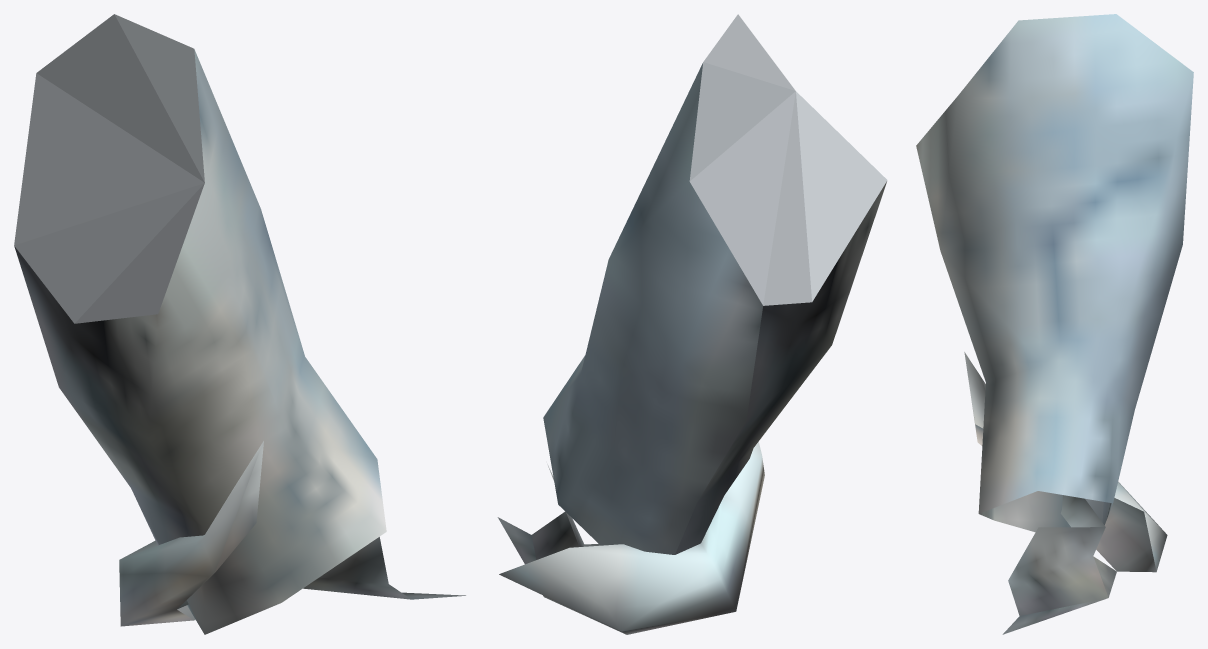
File: Minos_Upper_Left_Arm.obj
The picture shows the model from 3 angles, left to right: view 1: azimuth 30°, elevation 25°; view 2: azimuth 150°, elevation 25°; view 3: azimuth 270°, elevation 25°; orthographic projection. The views are drawn at different scales.
Visible parts, largest first — view 1: Minos_Upper_Left_Arm; view 2: Minos_Upper_Left_Arm; view 3: Minos_Upper_Left_Arm.
Boxes of the visible parts, x1=… form: Minos_Upper_Left_Arm: x1=14, y1=14, x2=465, y2=634; Minos_Upper_Left_Arm: x1=497, y1=14, x2=887, y2=634; Minos_Upper_Left_Arm: x1=916, y1=14, x2=1193, y2=634.
Bounding box in the file's own units: 0.1367 × 0.2232 × 0.1066.
Materials: 1 (1 with a texture image).
